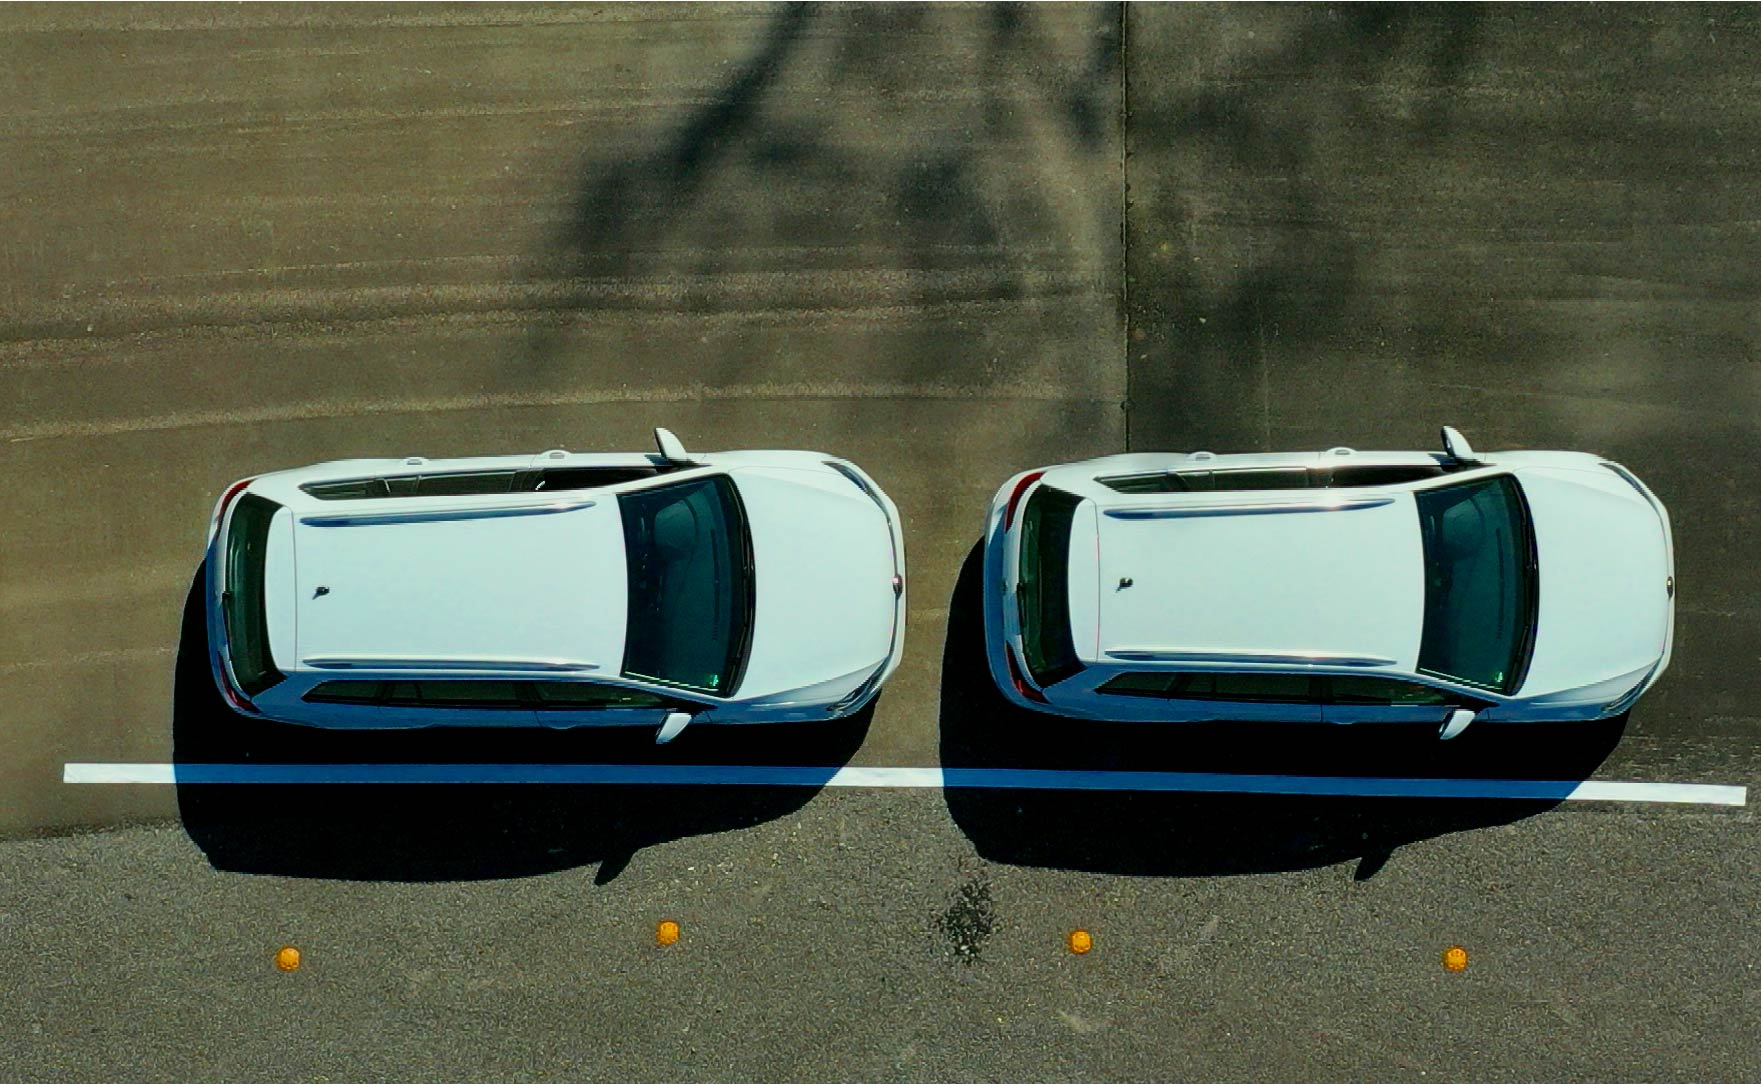Car: (177, 436, 917, 747), (973, 434, 1692, 738)
LaneMark: (63, 762, 1749, 812)
